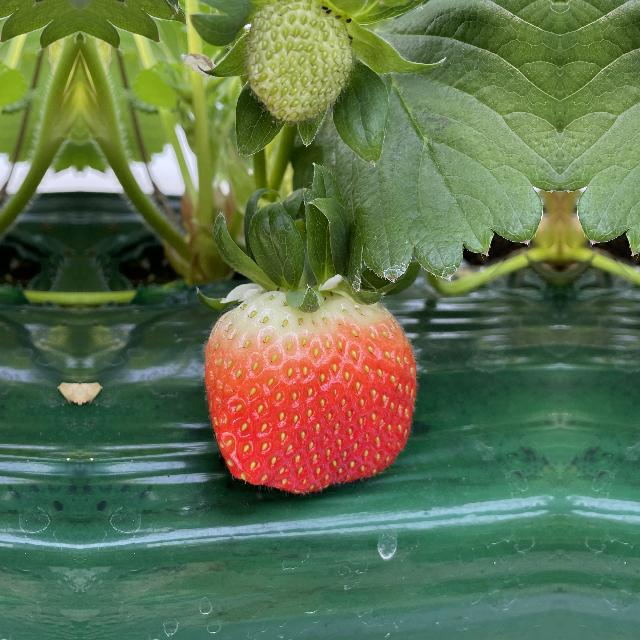Health_100: (204, 272, 423, 502)
Health_25: (248, 0, 346, 130)
